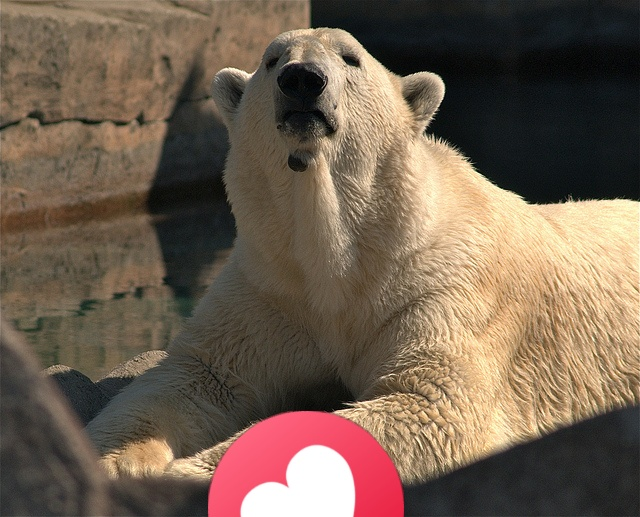love: (208, 411, 404, 517)
